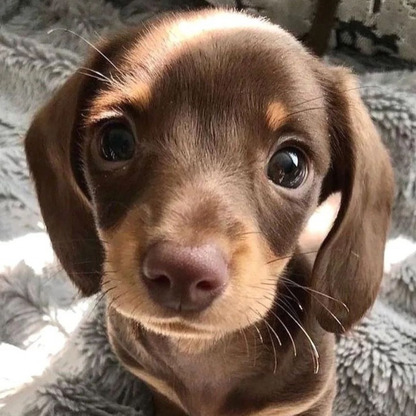dachshund: (39, 8, 370, 400)
